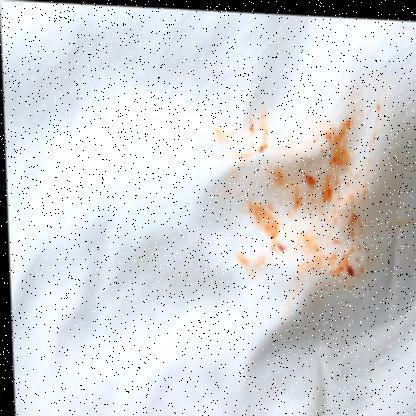kimchi: (206, 108, 410, 307), (316, 117, 353, 179), (320, 179, 340, 215), (342, 261, 367, 289), (301, 166, 318, 199), (253, 140, 266, 157), (274, 242, 288, 253)
